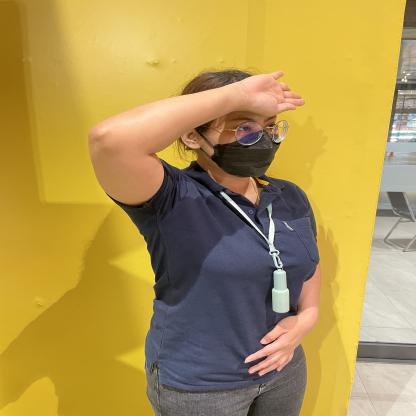Sick: (57, 51, 340, 212)
